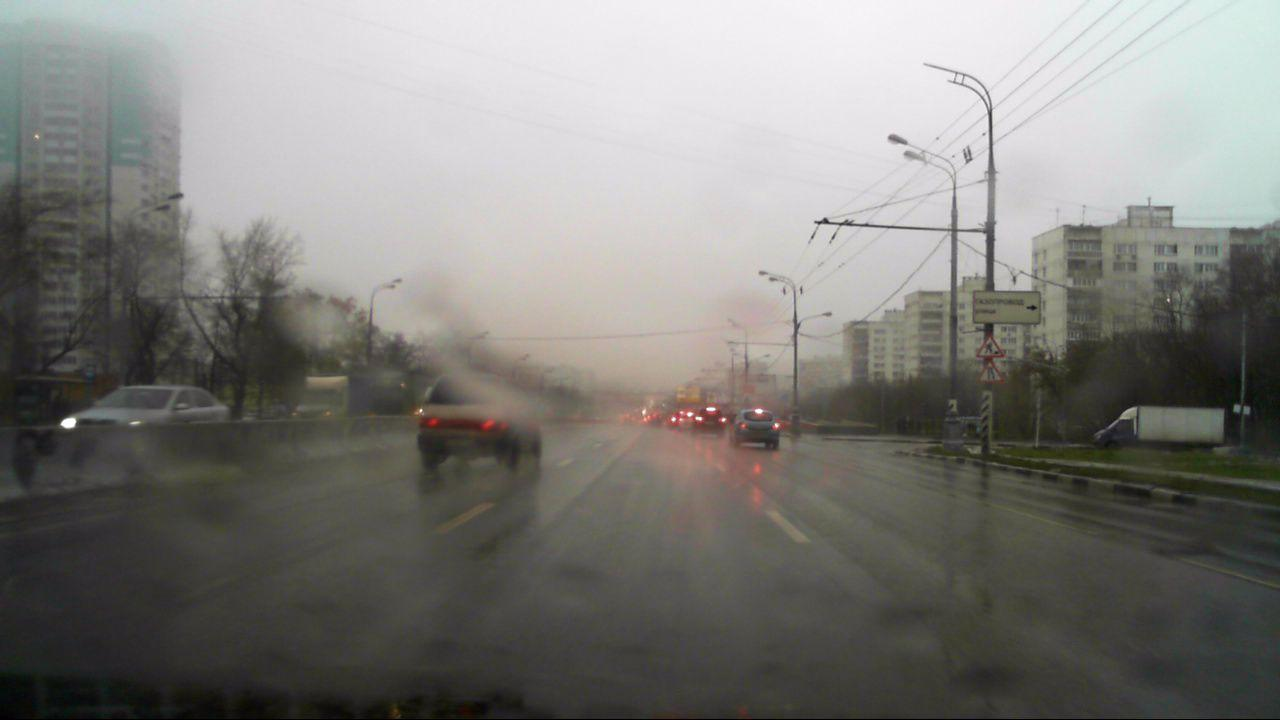road_sign: (975, 355, 1007, 383), (975, 333, 1006, 357)
